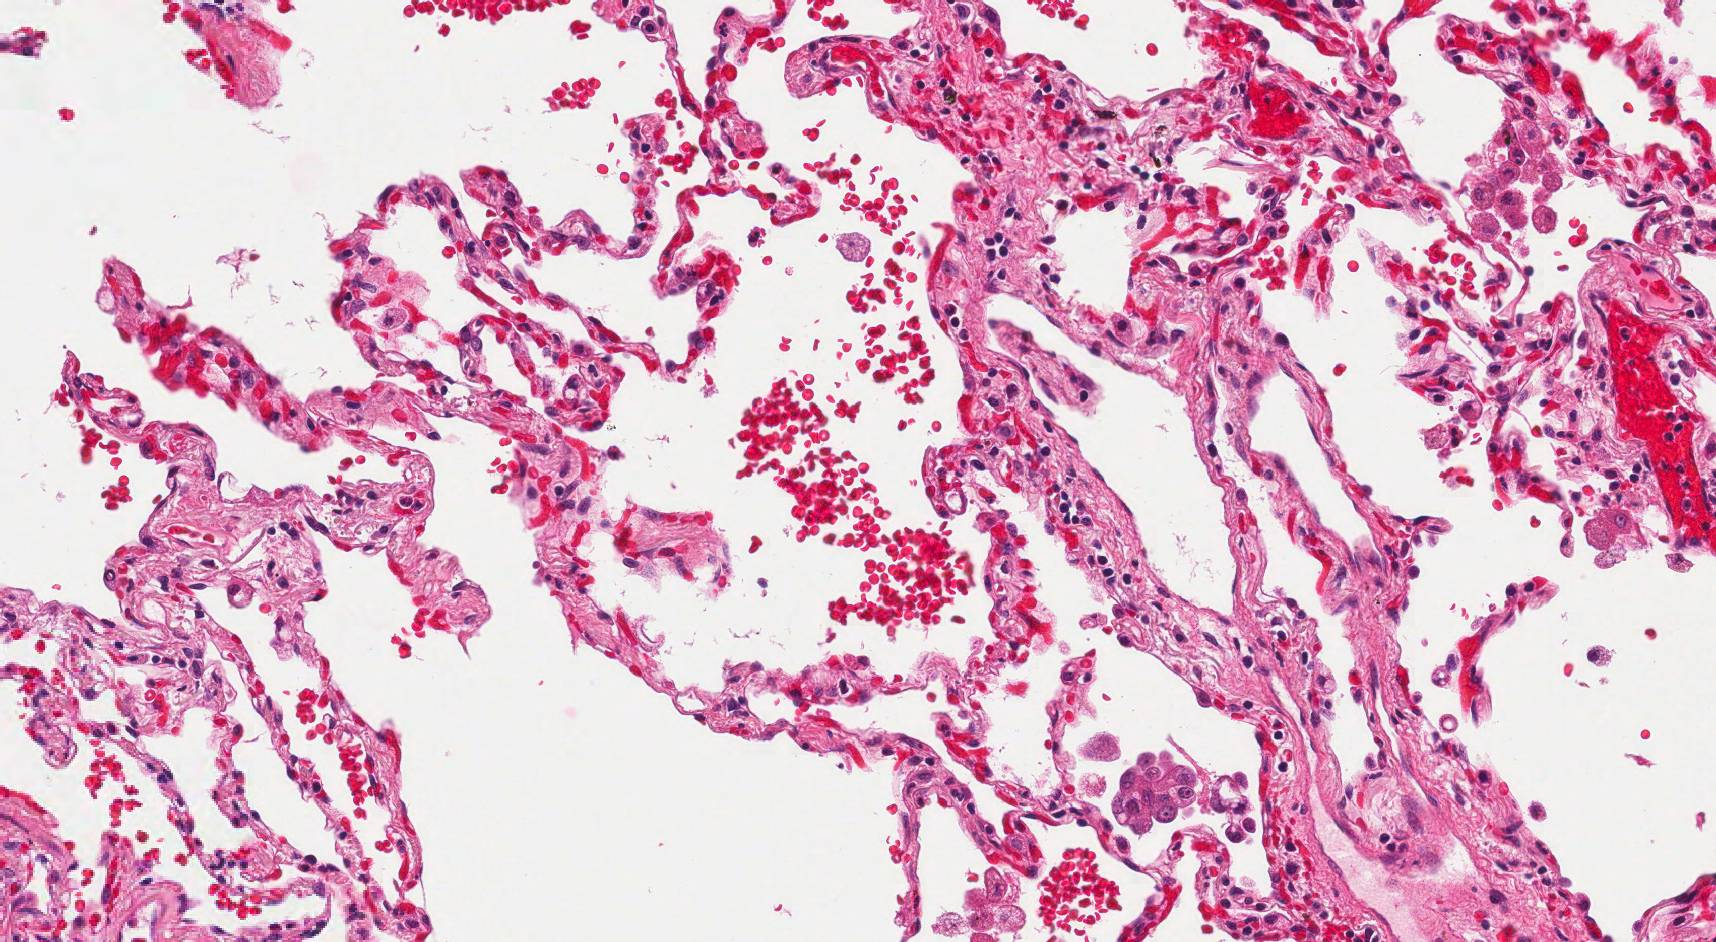stas: (1111, 749, 1198, 835), (1209, 770, 1255, 845)
